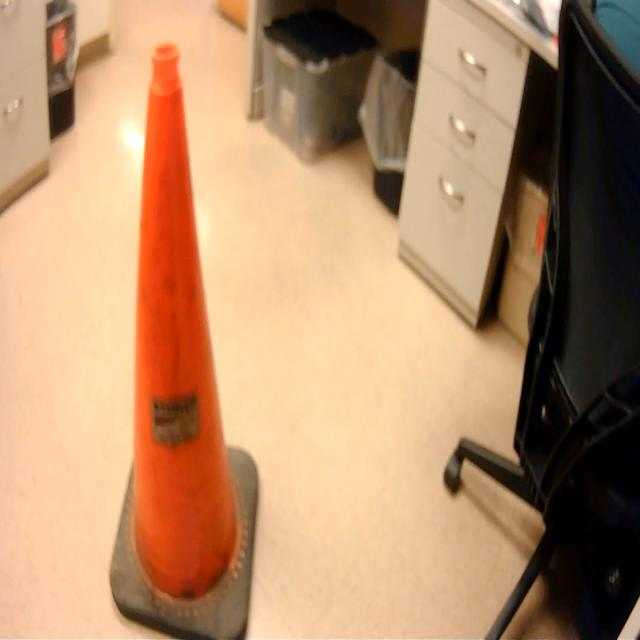traffic cone: (105, 34, 267, 640)
